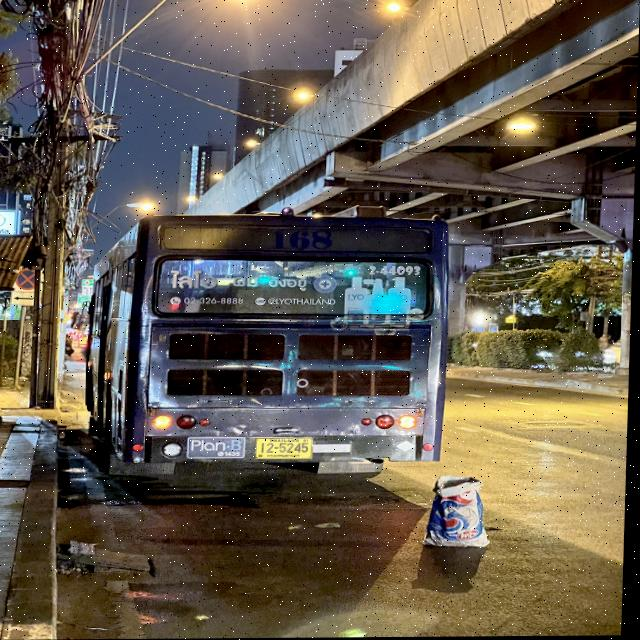BMTA-bus: (86, 213, 466, 495)
Bus-Line-Number: (270, 226, 339, 255)
